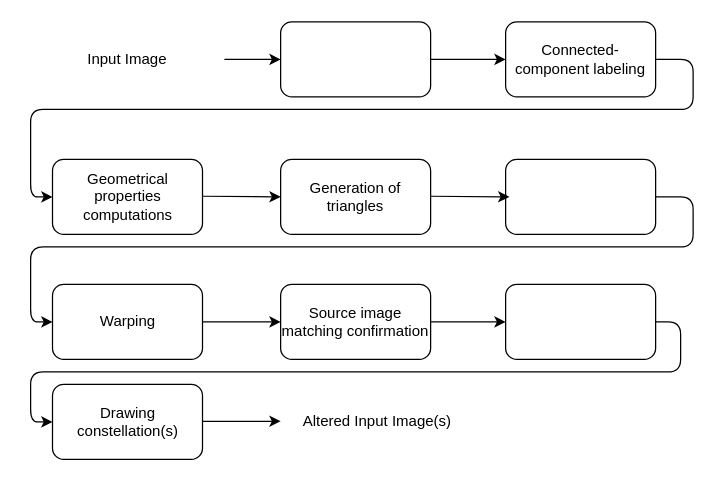
Image size: 725x481. Some labels were removed from this diagram. The centre of each missing label's shape, as x and y in pixels:
"Binarization" belongs at (355,59).
"Matching filtering" belongs at (580,321).
"Triangle similarity matching" belongs at (580,196).
